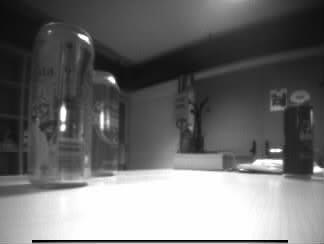Tin can: (28, 21, 90, 187), (91, 72, 119, 178), (283, 104, 312, 176)
